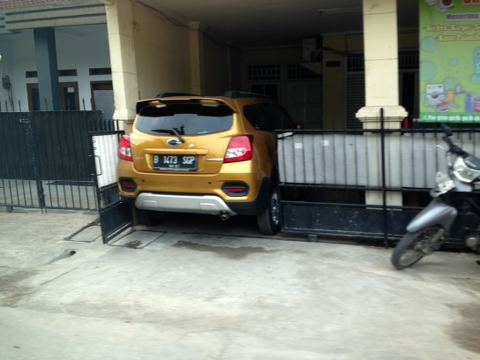mobil: (116, 90, 301, 233)
